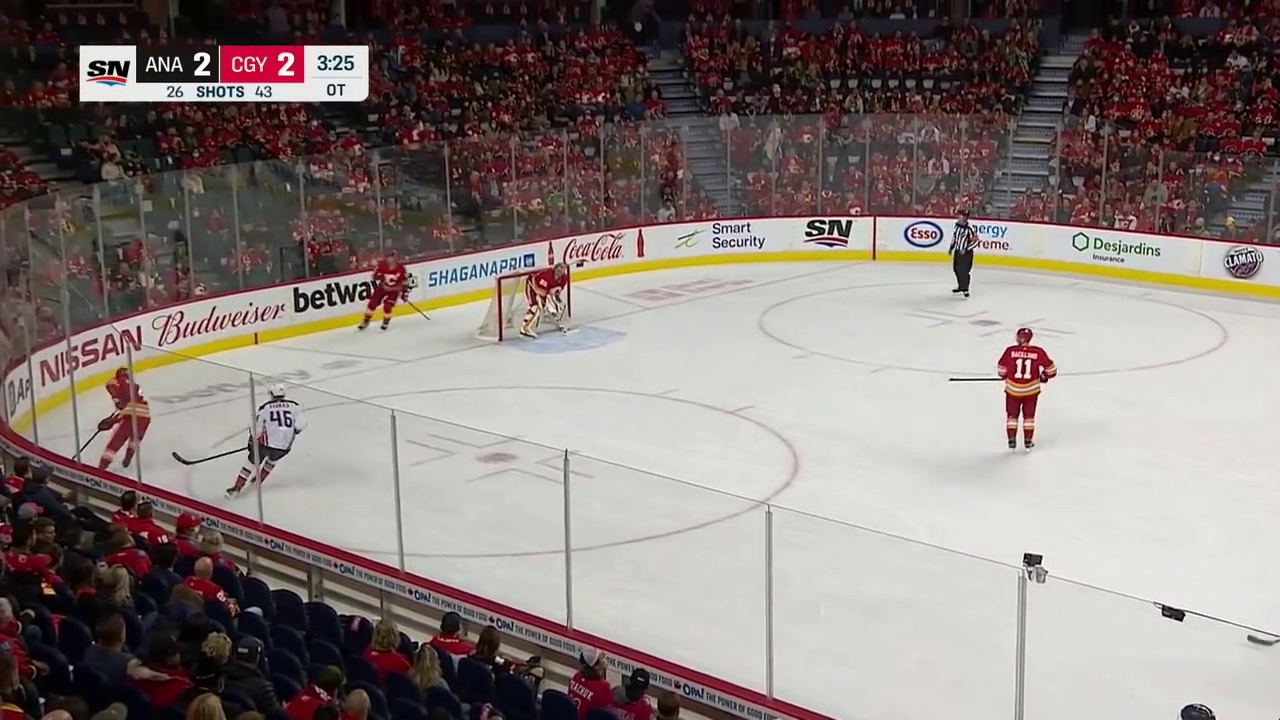goalie: (519, 263, 568, 340)
hockeyplayer: (226, 382, 308, 501), (997, 328, 1057, 453), (98, 367, 150, 472), (358, 251, 411, 333)
referee: (949, 209, 979, 299)
